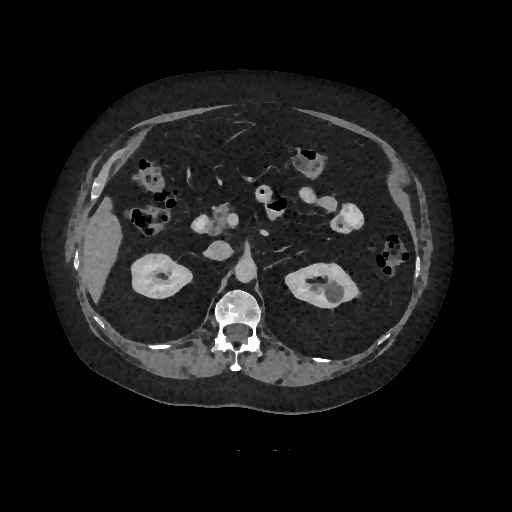Lesion: (320, 278, 349, 308)
